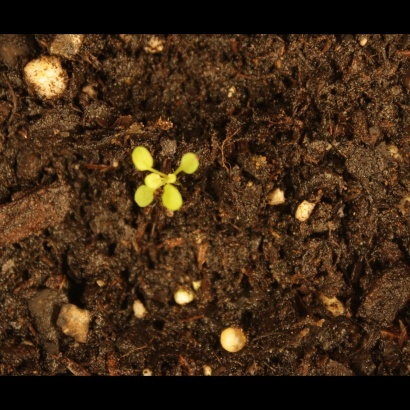leaf: (127, 142, 161, 175), (174, 144, 208, 175), (160, 185, 190, 217), (128, 186, 156, 218), (138, 170, 162, 194), (166, 167, 189, 190)
